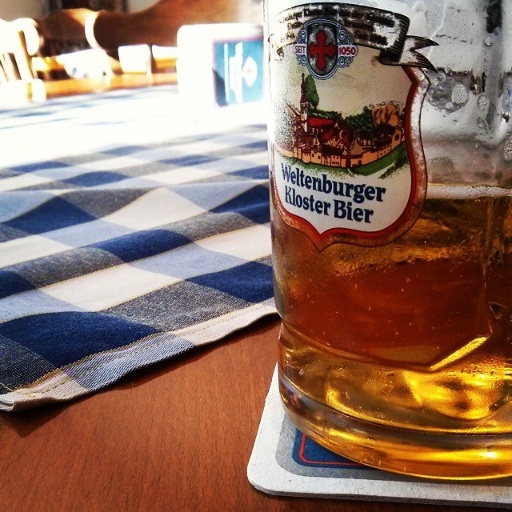hand: (35, 4, 96, 44), (0, 13, 47, 59)
